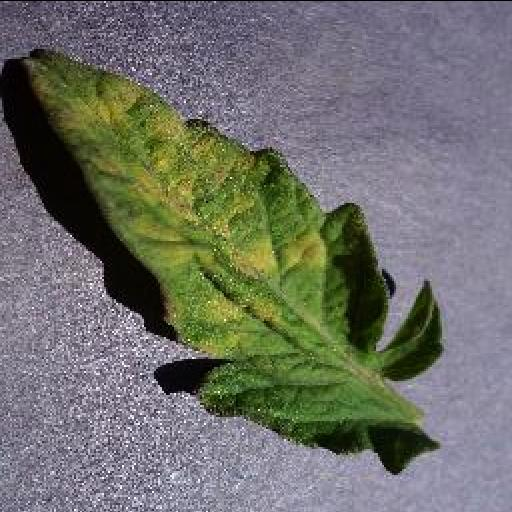disease_tomato: (16, 46, 452, 476)
